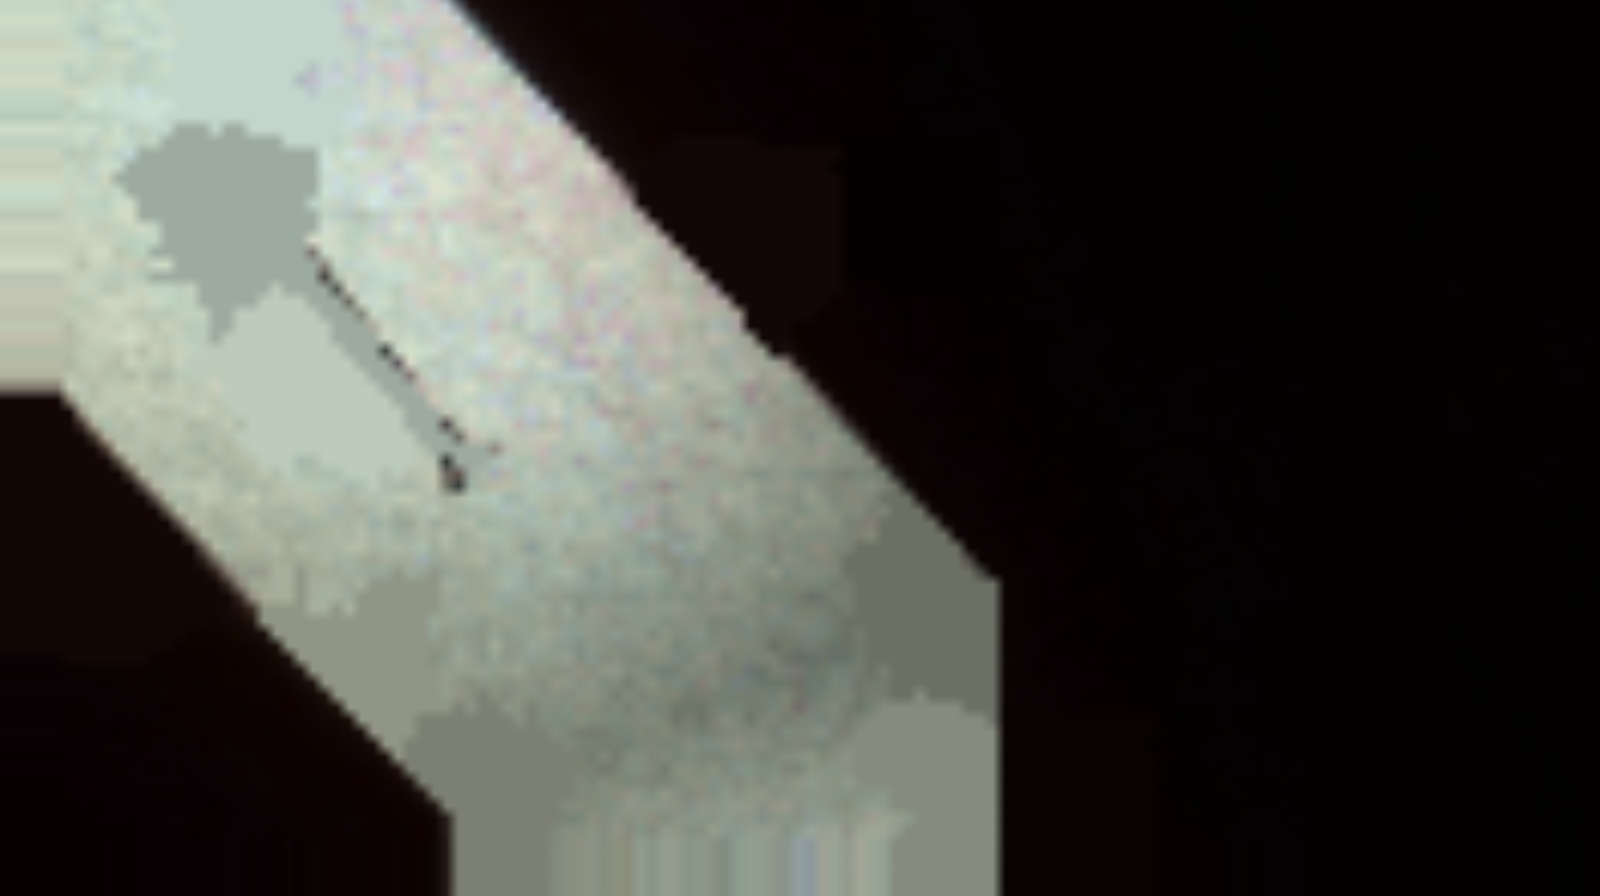S002: (156, 84, 554, 578)
